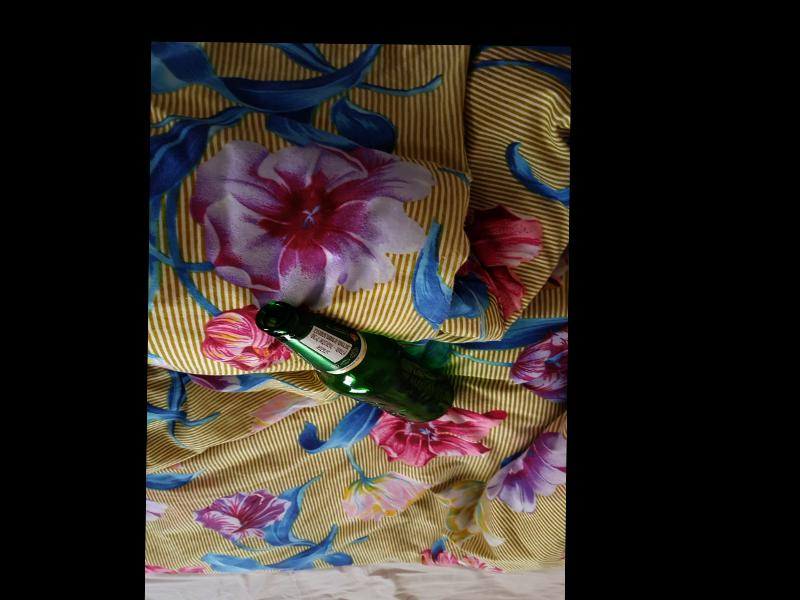Beer: (255, 300, 452, 422)
